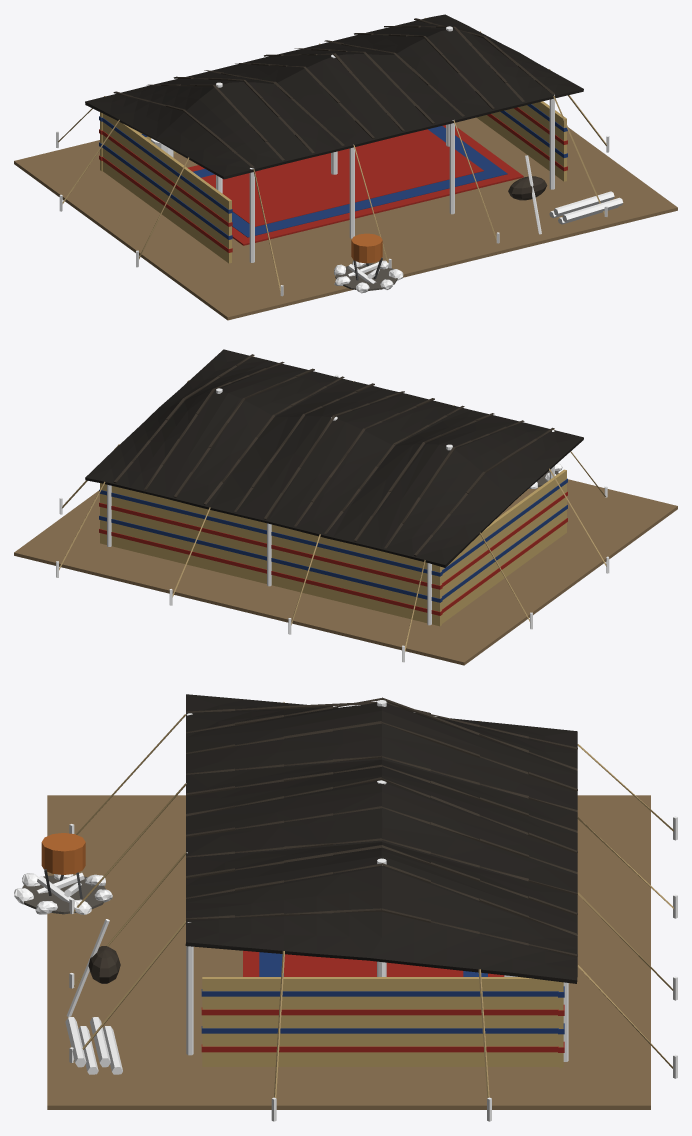
File: karacadir.glb
The picture shows the model from 3 angles, top to bottom: view 1: azimuth 30°, elevation 25°; view 2: azimuth 150°, elevation 25°; view 3: azimuth 270°, elevation 25°; orthographic projection. The views are drawn at different scales.
Visible parts, largest first — view 1: ArkaDirek; view 2: ArkaDirek; view 3: ArkaDirek.
Boxes of the visible parts, box(x1,y1,x2,y2) form: ArkaDirek: box(14, 14, 677, 320); ArkaDirek: box(14, 349, 677, 665); ArkaDirek: box(14, 694, 677, 1121).
Bounding box in the file's own units: 1 × 0.2584 × 0.8604.
